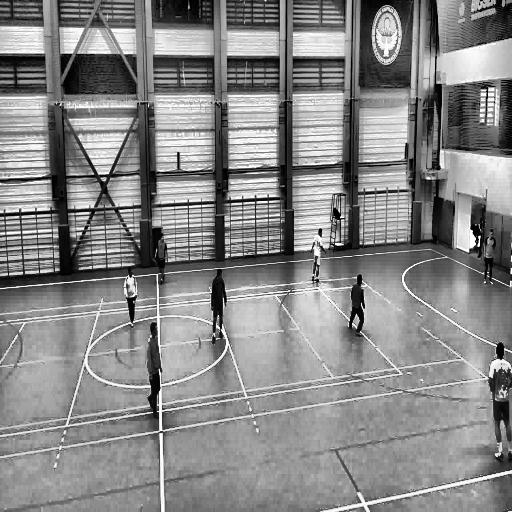player: (486, 338, 512, 468), (146, 321, 164, 420), (209, 267, 231, 346), (346, 274, 368, 338), (309, 227, 328, 285), (123, 265, 140, 328), (153, 232, 169, 286), (483, 227, 496, 292)
